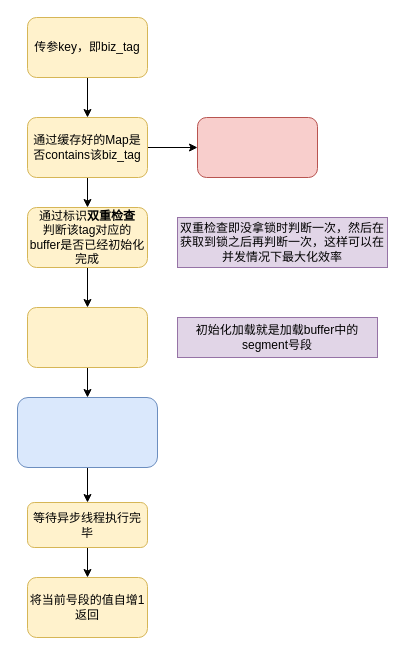
Some shapes in this 405 by 655 pixel diagram are drawn without their labels. The centre of each missing label's shape, as x and y in pixels:
判断当前buffer的号段使用是否超过10%,如果超过则起一个异步线程加载新号段: the point at 87,432
如果未初始化 对该buffer进行初始化加载: the point at 87,337
没有该tag，直接抛错: the point at 257,147
